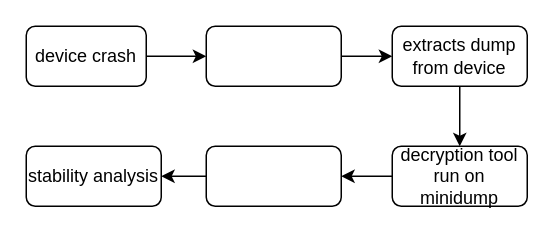
The diagram is 554 pixels wide and 234 high, and some of its shapes have lost their labels. The shapes that lost their labels are listed below. From the top down, each one's centre as x and y in pixels, then its label:
At (x=273, y=55): "writes dump to device".
At (x=273, y=175): "QCAP".
